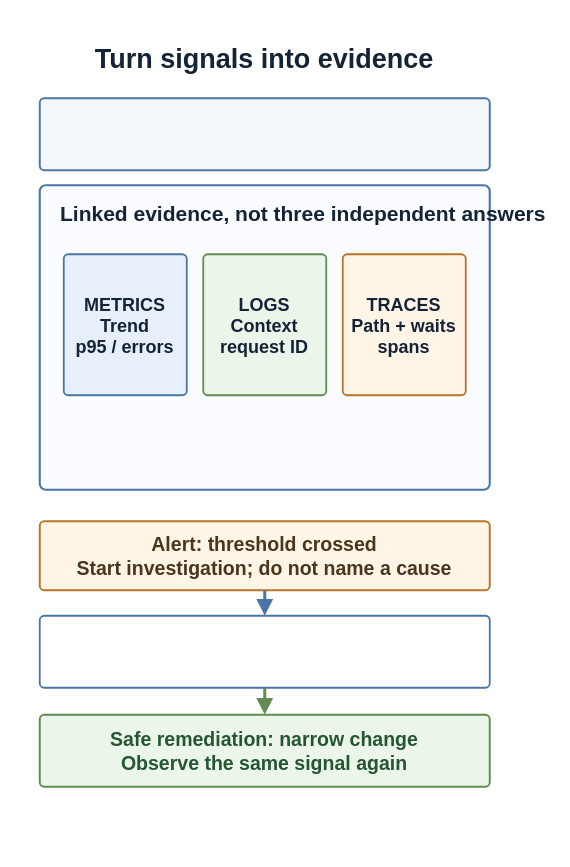
Image size: 570x867. Some labels were removed from this diagram. The centre of each missing label's shape, as x and y in pixels:
"Scope: Order API Same time window + correlation ID" belongs at point (264, 134).
"Triage only after evidence matches the scope and correlation ID" belongs at point (264, 651).
